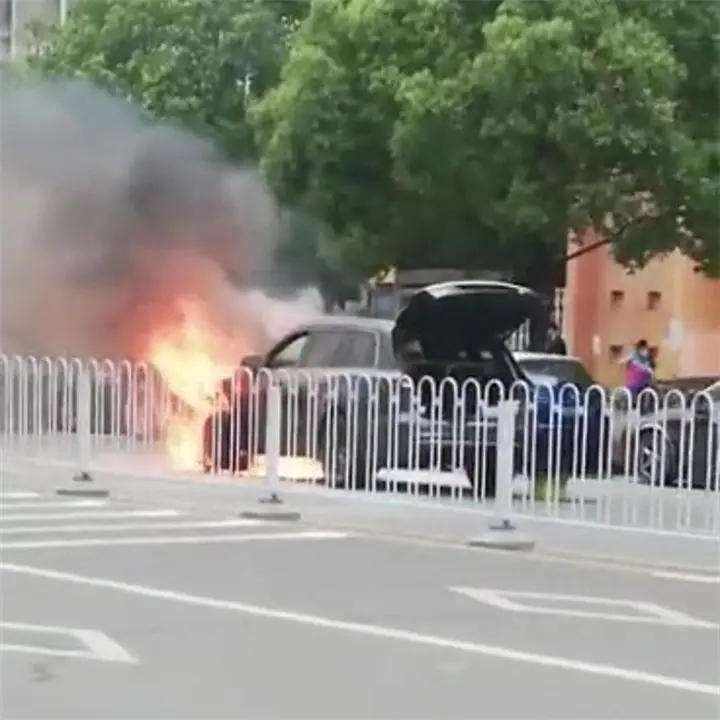fire: (145, 310, 262, 474)
